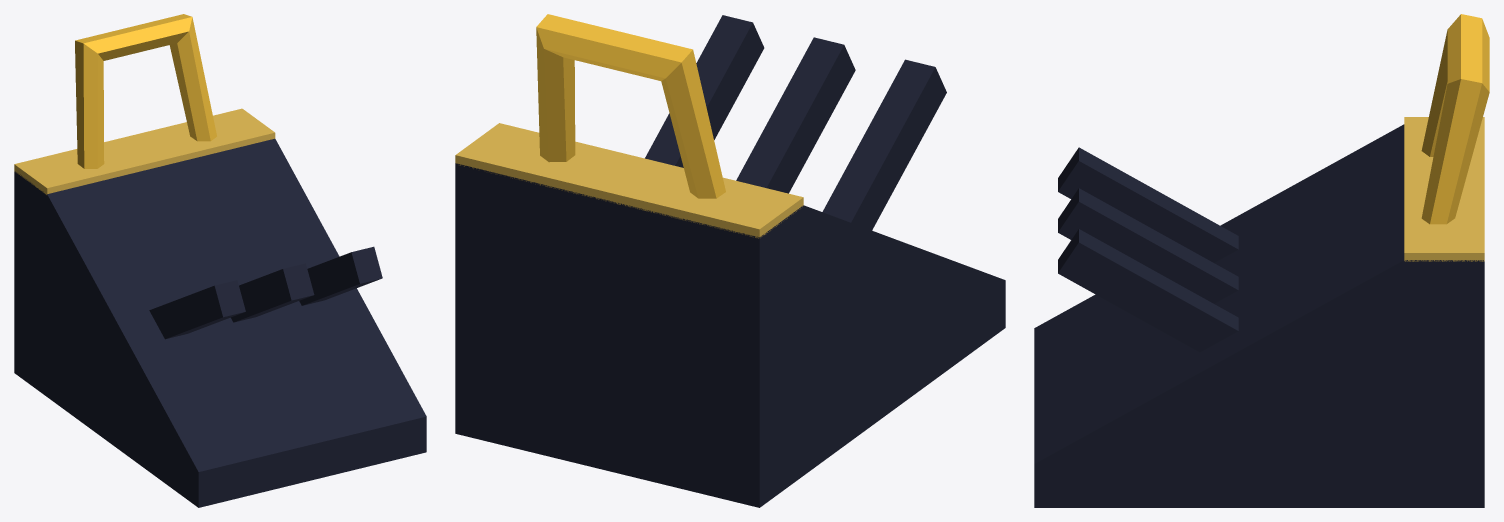
The model's file is sm_env_depot_wheel_chock.glb.
The picture shows the model from 3 angles, left to right: view 1: azimuth 30°, elevation 25°; view 2: azimuth 150°, elevation 25°; view 3: azimuth 270°, elevation 25°; orthographic projection. The views are drawn at different scales.
Parts seen in each view (by area): view 1: Chock, Cord, ChockStripe, Rib, Rib.001, Rib.002; view 2: Chock, ChockStripe, Cord, Rib, Rib.001, Rib.002; view 3: Chock, Cord, Rib.002, ChockStripe, Rib.001, Rib.
Boxes of the visible parts, <box> form: Chock: <box>14,138,426,507</box>; Cord: <box>75,14,216,168</box>; ChockStripe: <box>14,108,275,194</box>; Rib: <box>149,280,245,339</box>; Rib.001: <box>230,263,314,322</box>; Rib.002: <box>299,246,382,305</box>; Chock: <box>455,163,1005,507</box>; ChockStripe: <box>455,123,803,238</box>; Cord: <box>536,14,725,198</box>; Rib: <box>822,59,946,230</box>; Rib.001: <box>736,37,855,193</box>; Rib.002: <box>645,15,764,167</box>; Chock: <box>1034,124,1484,507</box>; Cord: <box>1421,14,1489,224</box>; Rib.002: <box>1058,229,1238,352</box>; ChockStripe: <box>1404,117,1484,261</box>; Rib.001: <box>1058,188,1238,303</box>; Rib: <box>1058,147,1238,262</box>.
Size of the model in its own units: 0.2 by 0.2699 by 0.2831.
